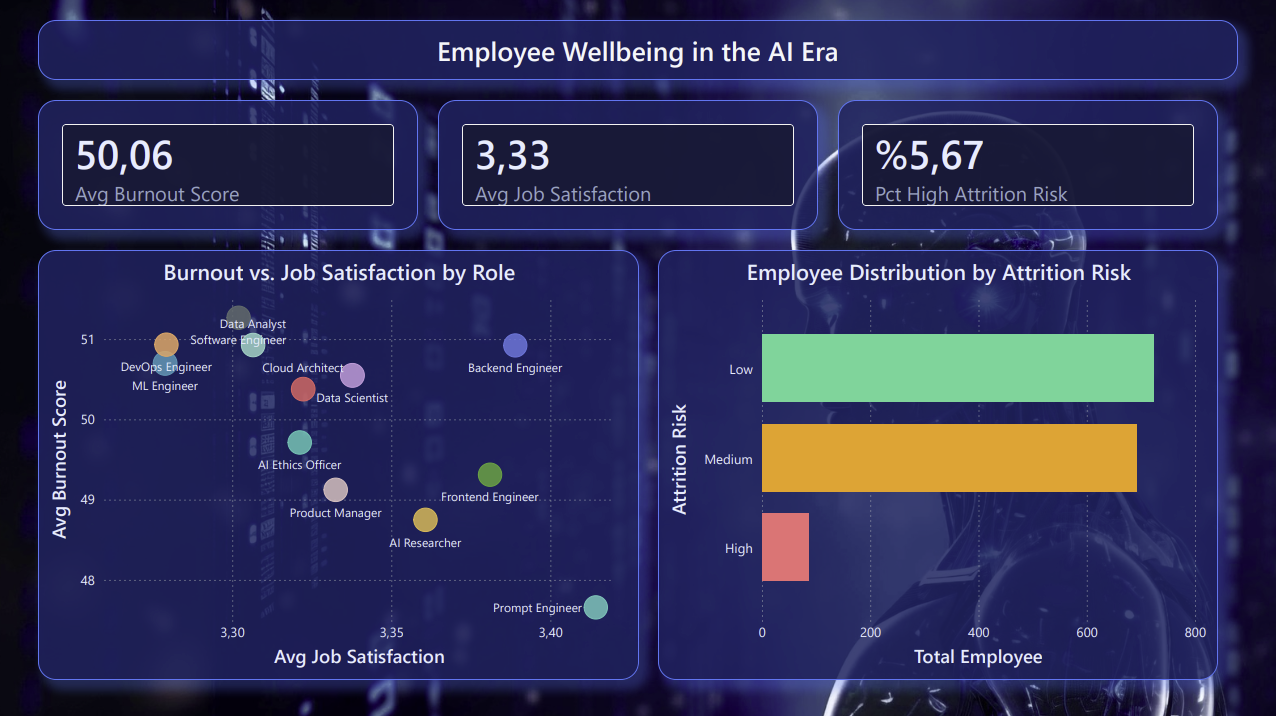

What the dashboard file says about the page in this screenshot:
{"tool":"powerbi","page":{"name":"Employee Wellbeing","canvas":[1280,720],"ordinal":6},"visuals":[{"type":"textbox","box":[40,20,1200,60],"z":0},{"type":"scatterChart","title":"Burnout vs. Job Satisfaction by Role","fields":{"Y":["ai_worker_burnout_attrition_2026.Avg Burnout Score"],"Series":["ai_worker_burnout_attrition_2026.job_role"],"Size":["ai_worker_burnout_attrition_2026.Avg Productivity Score"],"X":["ai_worker_burnout_attrition_2026.Avg Job Satisfaction"]},"box":[40,250,600.7,430],"z":1000},{"type":"cardVisual","fields":{"Data":["ai_worker_burnout_attrition_2026.Avg Burnout Score"]},"box":[40,100,380,130],"z":2000},{"type":"cardVisual","fields":{"Data":["ai_worker_burnout_attrition_2026.Avg Job Satisfaction"]},"box":[440,100,380,130],"z":3000},{"type":"cardVisual","fields":{"Data":["ai_worker_burnout_attrition_2026.Pct High Attrition Risk"]},"box":[840,100,380,130],"z":4000},{"type":"clusteredBarChart","title":"Employee Distribution by Attrition Risk","fields":{"Category":["ai_worker_burnout_attrition_2026.attrition_risk"],"Y":["CountNonNull(ai_worker_burnout_attrition_2026.employee_id)"]},"box":[660,250,560,430],"z":5000}]}

Visuals, with their boxes in screenshot pixels (x1, y1, x2, y2), scaled from the page's 1280x720 canvas onto the 1276x716 screenshot:
textbox: <box>40,20,1236,80</box>
"Burnout vs. Job Satisfaction by Role" scatterChart: <box>40,249,639,676</box>
cardVisual - ai_worker_burnout_attrition_2026.Avg Burnout Score: <box>40,99,419,229</box>
cardVisual - ai_worker_burnout_attrition_2026.Avg Job Satisfaction: <box>439,99,817,229</box>
cardVisual - ai_worker_burnout_attrition_2026.Pct High Attrition Risk: <box>837,99,1216,229</box>
"Employee Distribution by Attrition Risk" clusteredBarChart: <box>658,249,1216,676</box>
